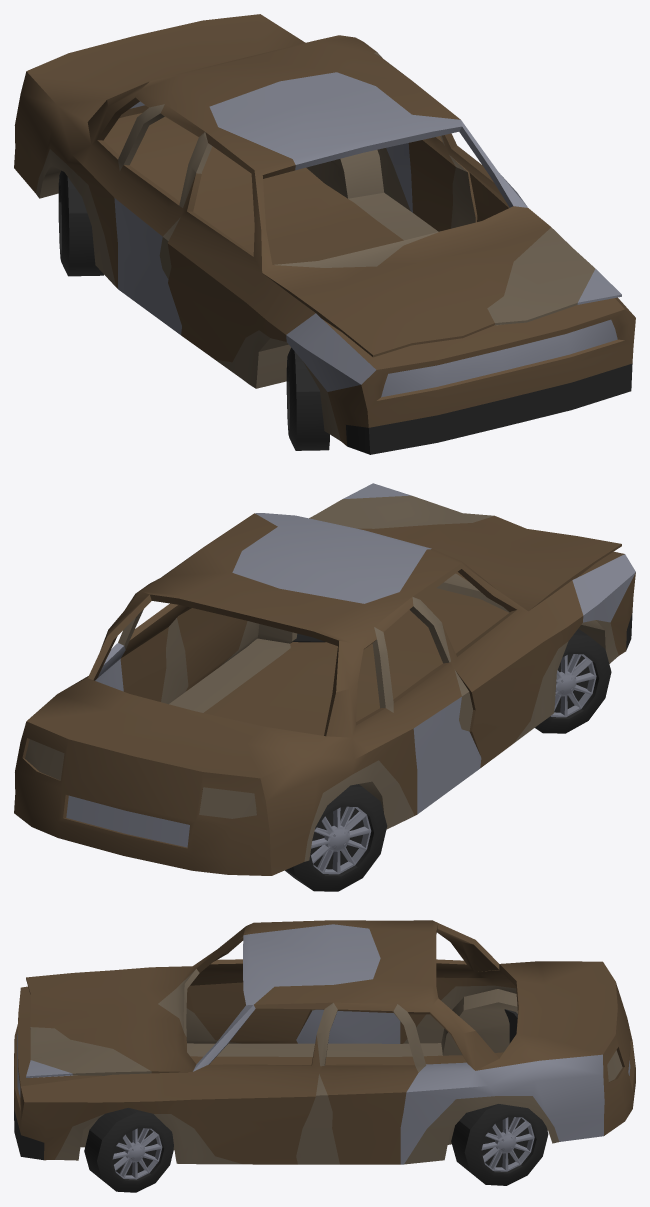
Rendered from broken-car.glb.
3 views of the same model, one above another, from view 1: azimuth 30°, elevation 25°; view 2: azimuth 150°, elevation 25°; view 3: azimuth 270°, elevation 25° (orthographic). The views are drawn at different scales.
Parts seen in each view (by area): view 1: Debris_BrokenCar; view 2: Debris_BrokenCar; view 3: Debris_BrokenCar.
Boxes of the visible parts, x1,y1,x2,y2 form: Debris_BrokenCar: [14, 14, 635, 454]; Debris_BrokenCar: [14, 483, 635, 891]; Debris_BrokenCar: [14, 920, 635, 1192].
Size of the model in its own units: 2.64 by 1.76 by 5.49.
